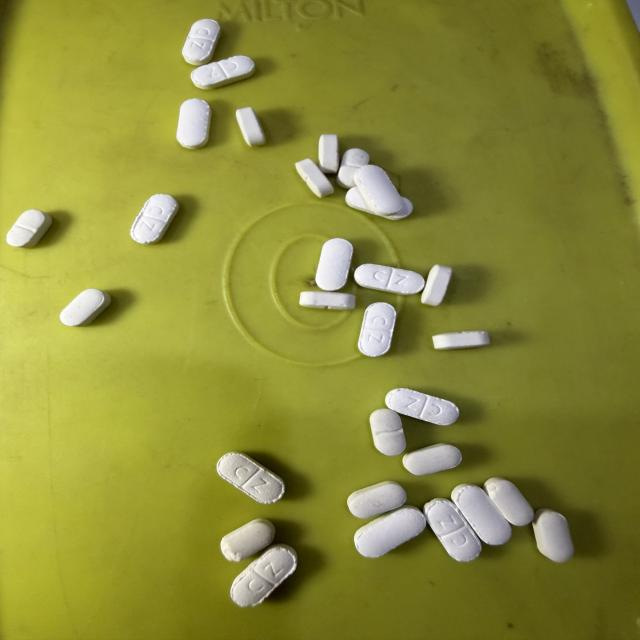pill: (231, 545, 297, 607), (452, 484, 511, 545), (355, 506, 425, 557), (424, 499, 481, 561), (217, 452, 284, 503), (385, 388, 459, 425), (131, 194, 179, 244), (354, 165, 402, 215), (484, 478, 533, 526), (221, 519, 275, 561), (346, 187, 412, 220), (533, 509, 574, 562), (354, 264, 424, 295), (348, 481, 406, 518), (191, 56, 255, 89), (315, 238, 353, 291), (358, 303, 396, 356), (60, 289, 111, 326), (403, 444, 462, 475), (183, 19, 220, 65), (177, 99, 211, 149), (370, 409, 406, 455), (7, 210, 51, 247), (296, 159, 333, 197), (337, 148, 369, 188), (421, 265, 452, 305), (236, 107, 265, 146), (433, 331, 489, 349), (300, 292, 355, 310), (318, 134, 339, 173)
